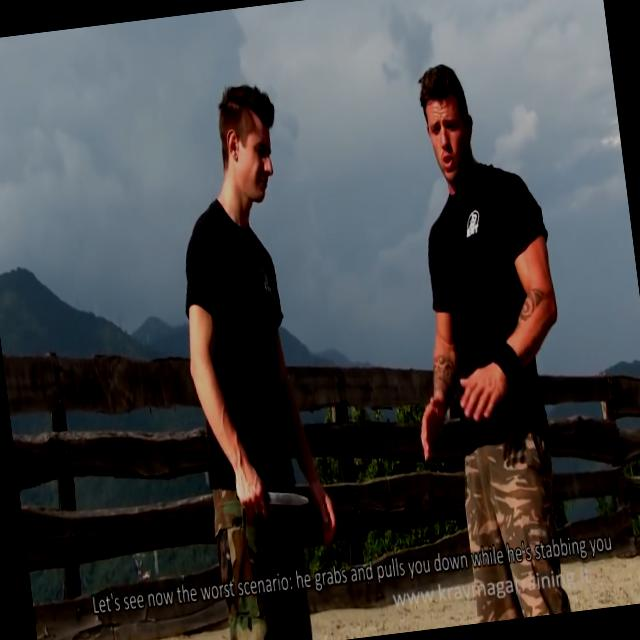knife: (230, 468, 312, 524)
